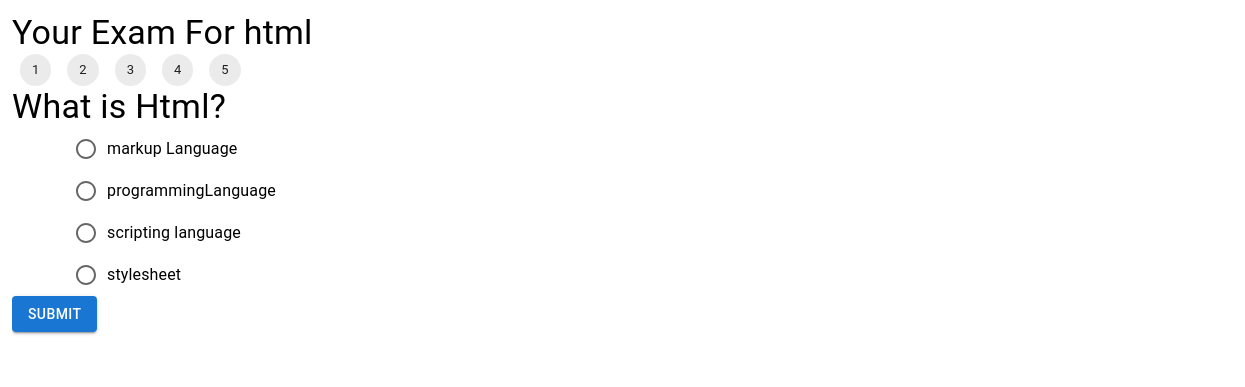
Test: Exam page › Click and number and change question
What coordinates should you click on to do the following:
click the button with test id "quesNum" showing "5"
I would click on:
 (225, 70)
Its box is left=209, top=54, right=241, bottom=86.
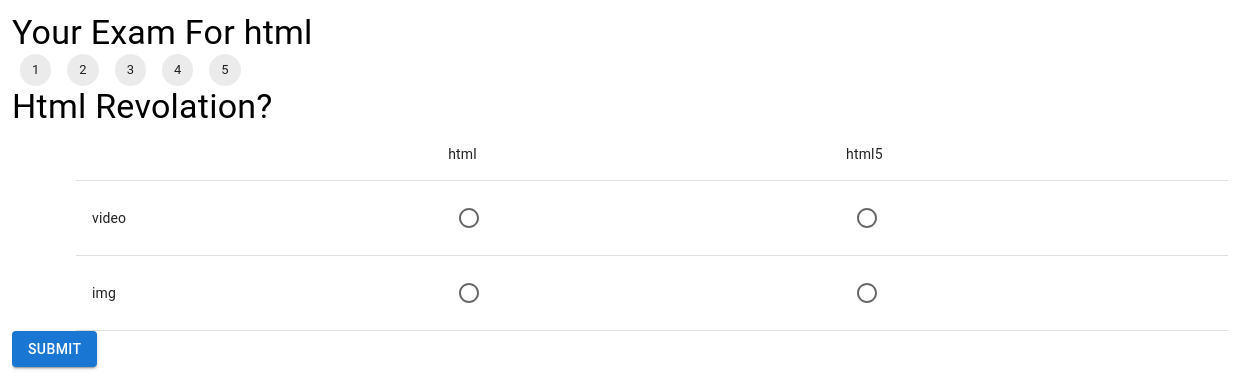
Check: the heading with test id "ques" reads "Html Revolation?", box left=12, top=86, right=273, bottom=126
